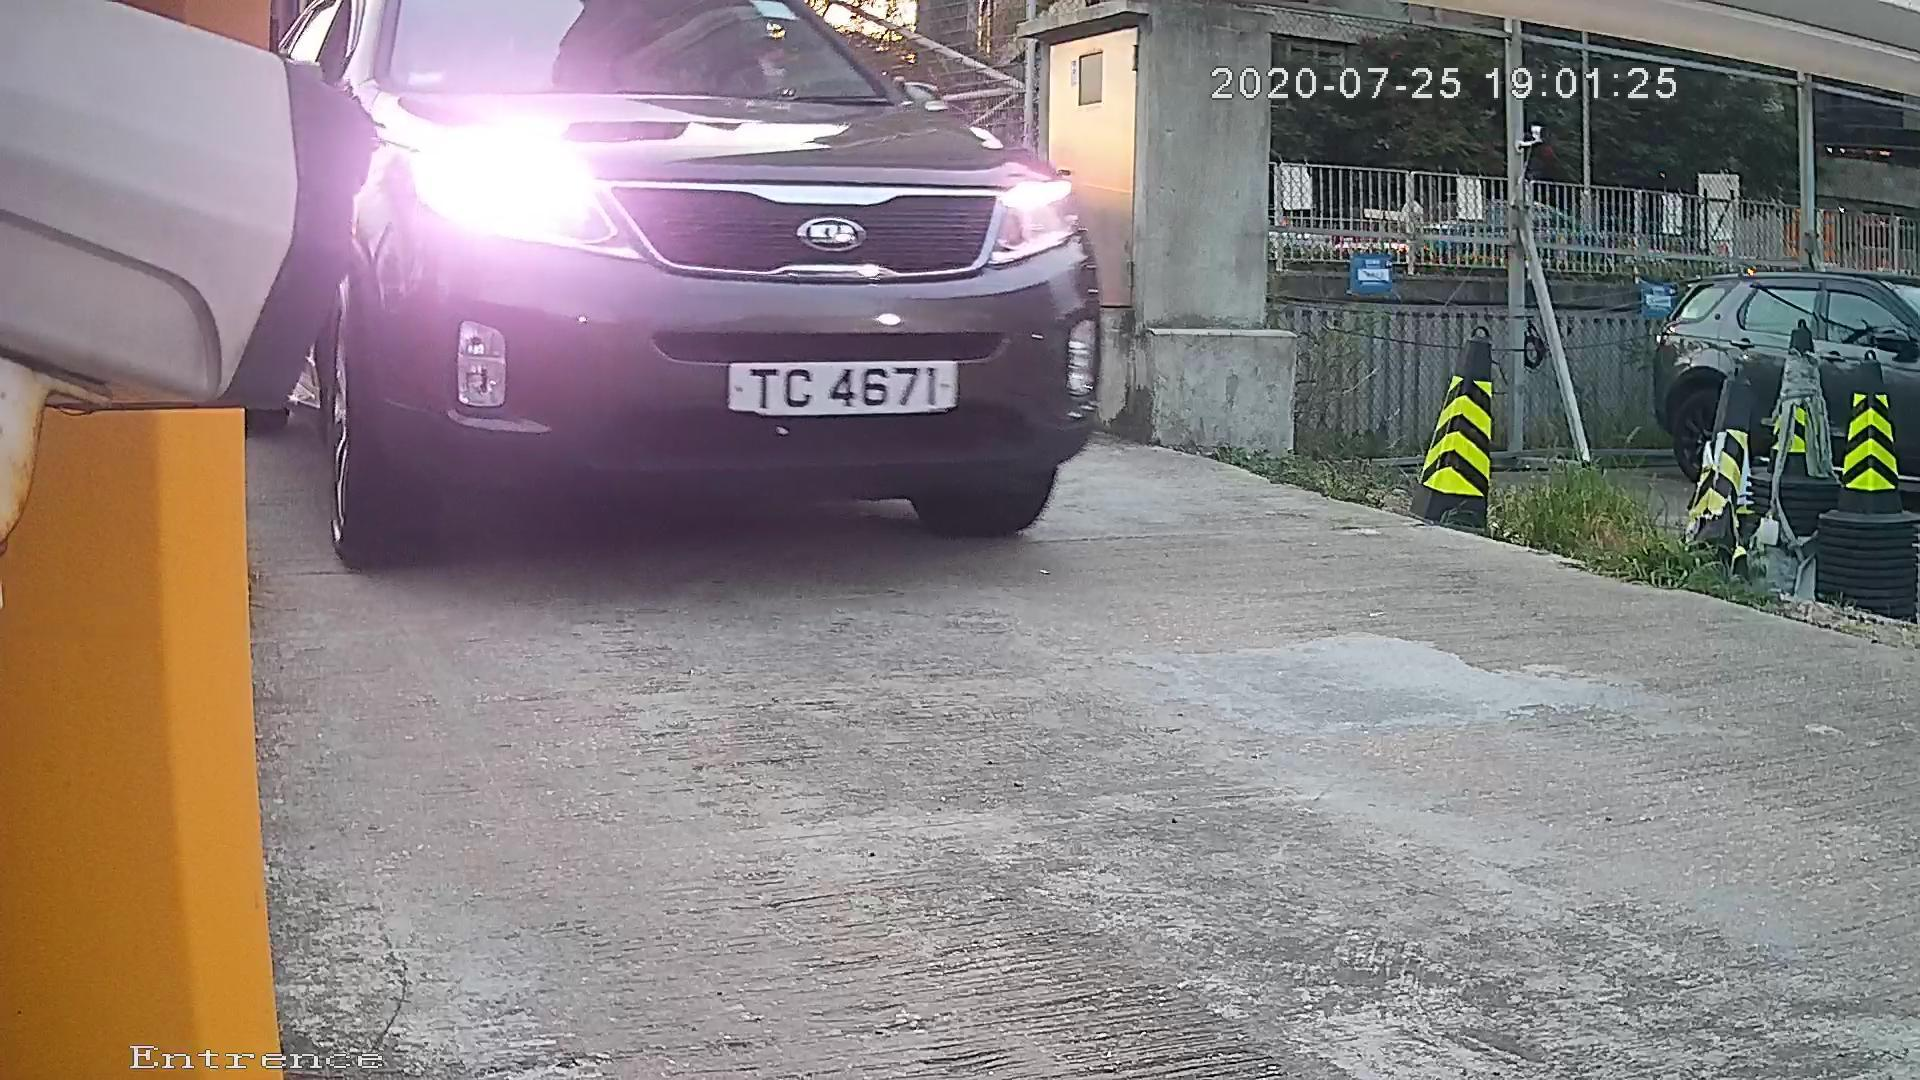privatecar: (258, 11, 1192, 584)
